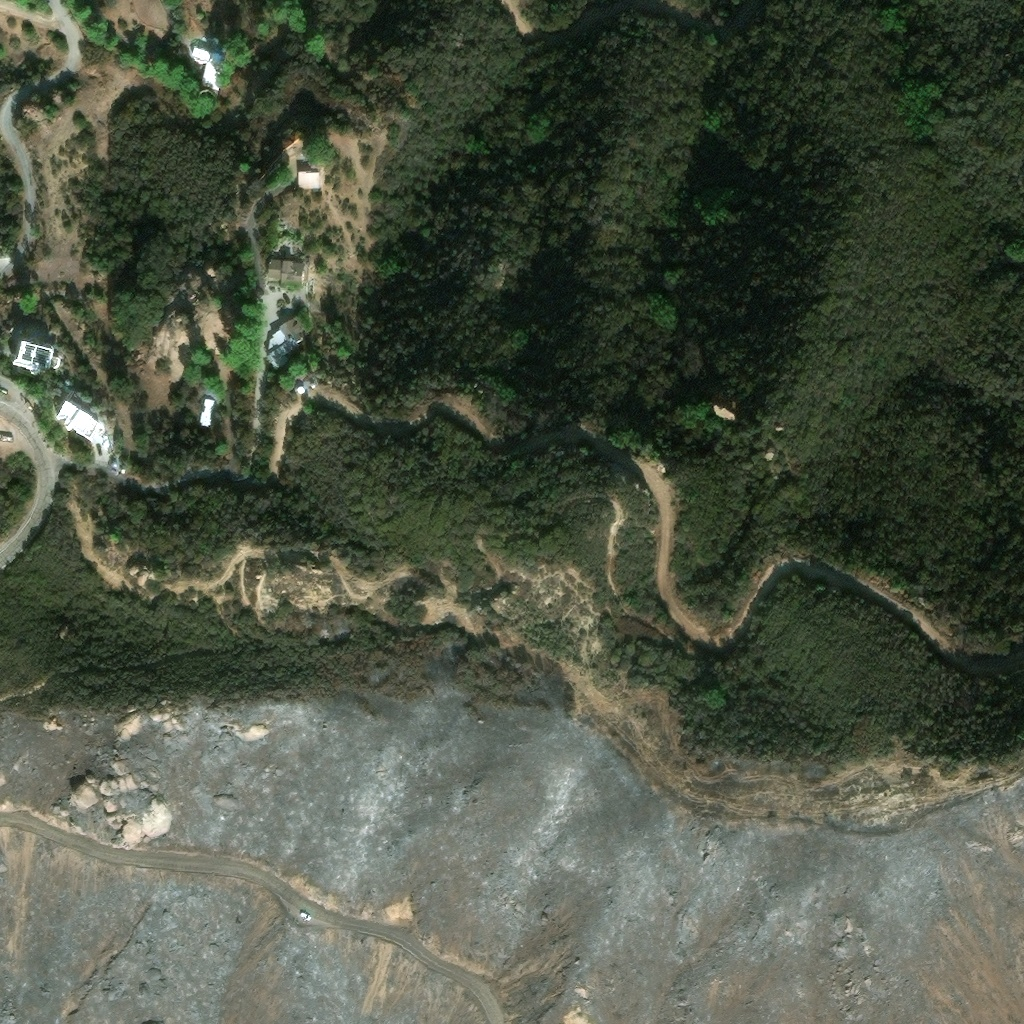0 no-damage: (188, 39, 234, 92), (54, 399, 105, 442), (267, 317, 307, 369), (13, 338, 61, 375), (268, 257, 308, 286), (201, 395, 216, 425), (298, 170, 320, 190), (297, 384, 305, 392)
